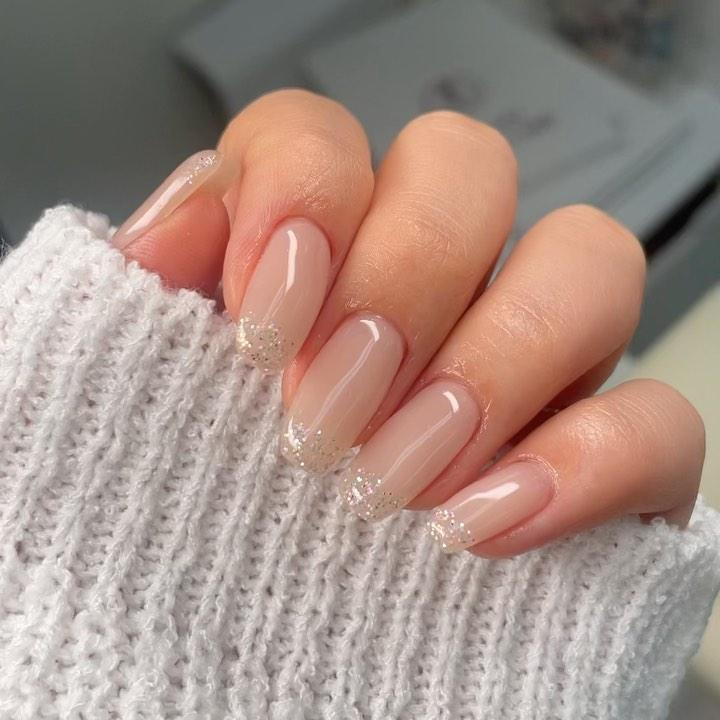nail: (338, 201, 647, 523), (425, 376, 706, 559), (278, 309, 407, 476), (338, 376, 481, 523), (233, 214, 332, 375), (425, 453, 558, 555), (110, 148, 221, 251)
